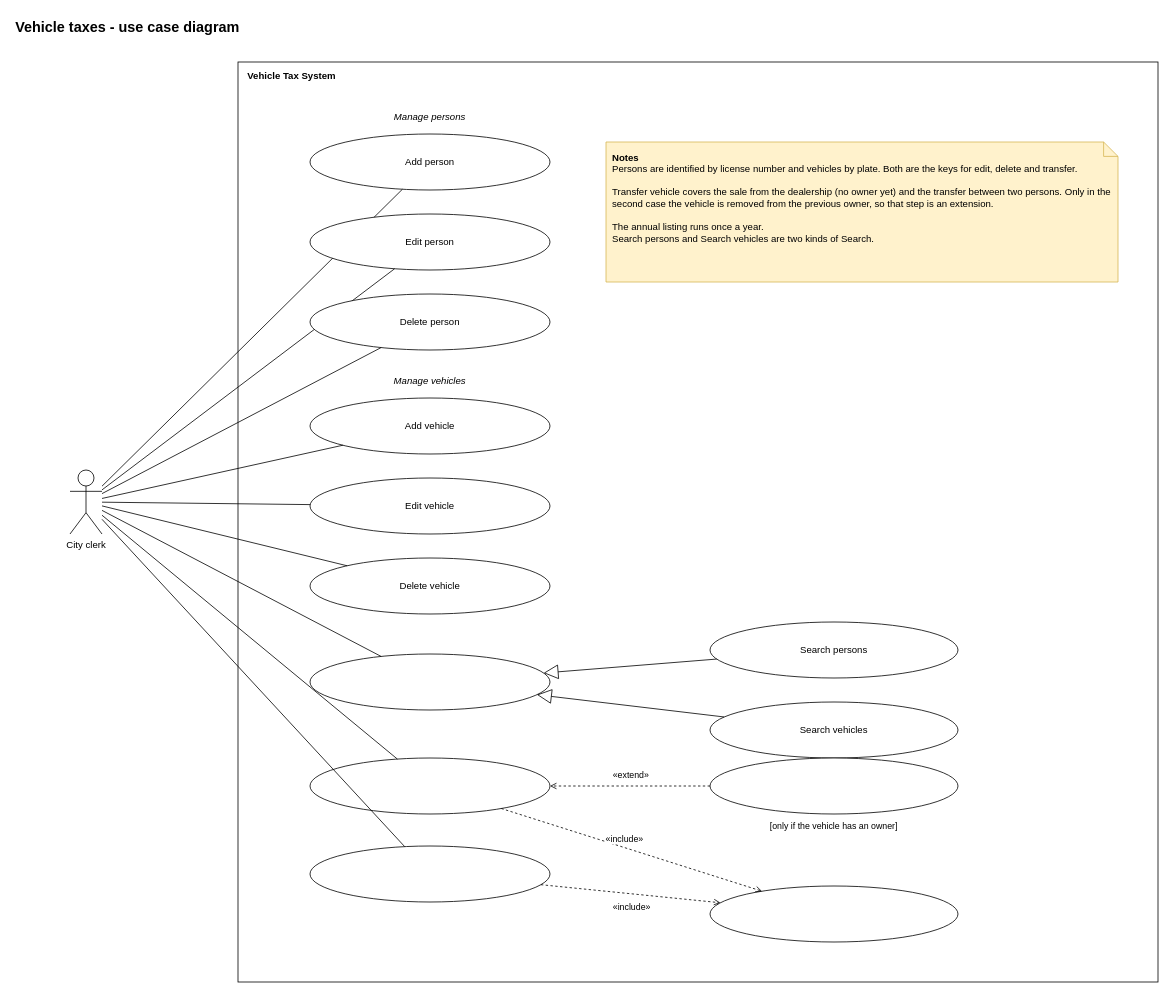
This 1172x996 diagram has some shape labels left out. Here are the shapes that lost their labels. From the top down, the centre of each, then its label:
(429,681): Search
(429,785): Transfer vehicle
(833,785): Remove vehicle from previous owner
(429,873): Generate annual tax listing
(833,913): Calculate vehicle tax
